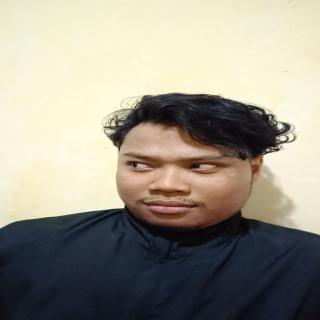Takut: (108, 111, 266, 233)
